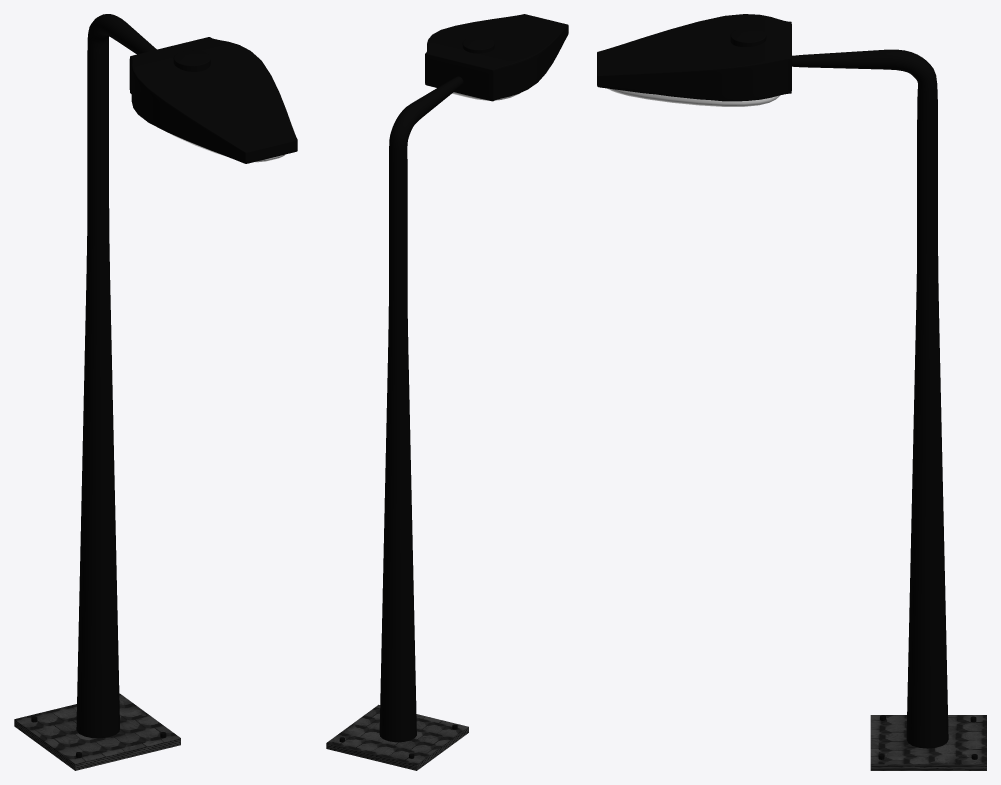
File: street_lamp.obj
The picture shows the model from 3 angles, left to right: view 1: azimuth 30°, elevation 25°; view 2: azimuth 150°, elevation 25°; view 3: azimuth 270°, elevation 25°; orthographic projection. The views are drawn at different scales.
Visible parts, largest first — view 1: 4, 1, 5, 2; view 2: 4, 1, 5, 2; view 3: 4, 1, 5, pCube8.
Part boxes in pixels (x1,y1,x2,y2): 4: (76, 14, 156, 738); 1: (129, 37, 297, 163); 5: (14, 693, 180, 770); 2: (173, 50, 210, 71); 4: (379, 76, 463, 742); 1: (425, 14, 568, 101); 5: (326, 704, 468, 770); 2: (462, 36, 494, 53); 4: (792, 49, 948, 748); 1: (597, 14, 791, 101); 5: (870, 715, 986, 770); pCube8: (607, 88, 779, 106).
Bounding box in the file's own units: 1.71 × 10.7 × 5.31.
6 materials, 1 textured.
